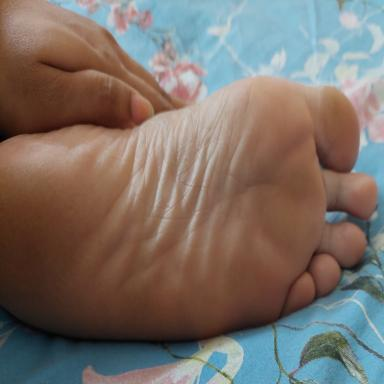normal skin: (0, 77, 377, 339)
